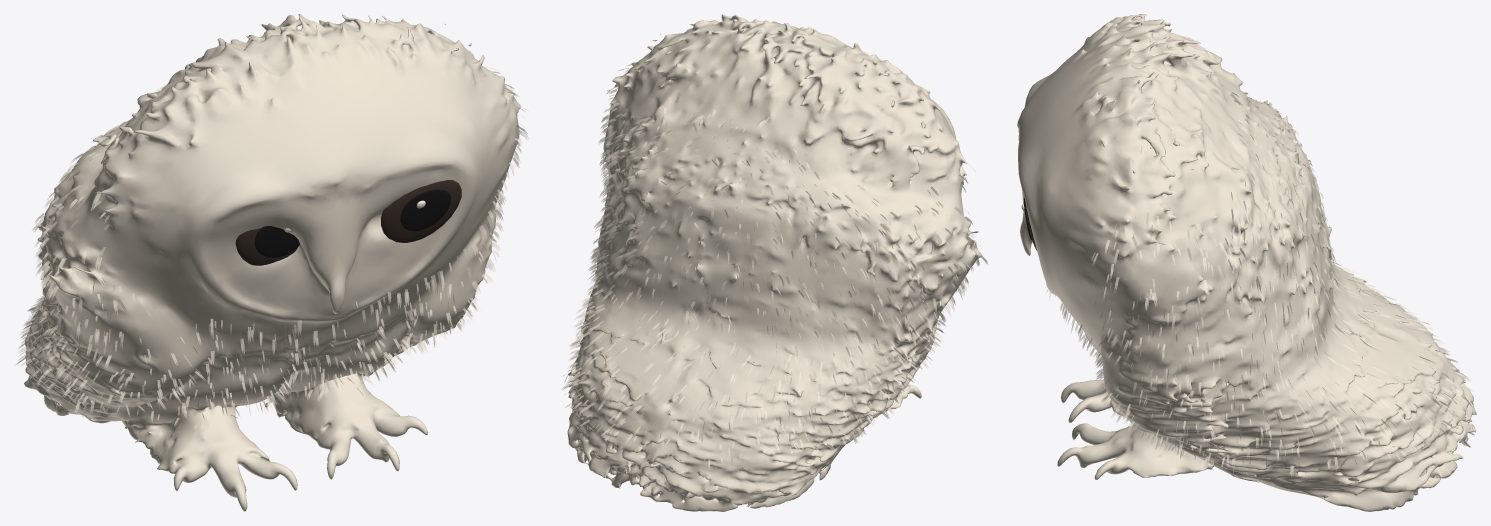
File: run112_strong_44_real_neural_sculpt_ART_UNAPPROVED.glb
3 views of the same model, side by side, from view 1: azimuth 30°, elevation 25°; view 2: azimuth 150°, elevation 25°; view 3: azimuth 270°, elevation 25° (orthographic). The views are drawn at different scales.
Visible parts, largest first — view 1: actual_neural_juvenile_sculpt_softened_RESEARCH_ONLY, Run110_physically_sampled_native_mesh_down_not_svg, real_socket_registered_dark_open_eye_1, nested_small_pupil_1, nested_small_pupil_-1, real_socket_registered_dark_open_eye_-1; view 2: actual_neural_juvenile_sculpt_softened_RESEARCH_ONLY, Run110_physically_sampled_native_mesh_down_not_svg; view 3: actual_neural_juvenile_sculpt_softened_RESEARCH_ONLY, Run110_physically_sampled_native_mesh_down_not_svg.
Boxes of the visible parts, x1,y1,x2,y2 form: actual_neural_juvenile_sculpt_softened_RESEARCH_ONLY: (24,14,520,511); Run110_physically_sampled_native_mesh_down_not_svg: (16,66,529,431); real_socket_registered_dark_open_eye_1: (381,180,461,242); nested_small_pupil_1: (400,189,450,231); nested_small_pupil_-1: (254,226,299,257); real_socket_registered_dark_open_eye_-1: (235,228,297,265); actual_neural_juvenile_sculpt_softened_RESEARCH_ONLY: (567,14,982,511); Run110_physically_sampled_native_mesh_down_not_svg: (561,63,988,470); actual_neural_juvenile_sculpt_softened_RESEARCH_ONLY: (1017,14,1476,511); Run110_physically_sampled_native_mesh_down_not_svg: (1047,73,1473,476).
Size of the model in its own units: 1.95 by 1.79 by 1.78.
